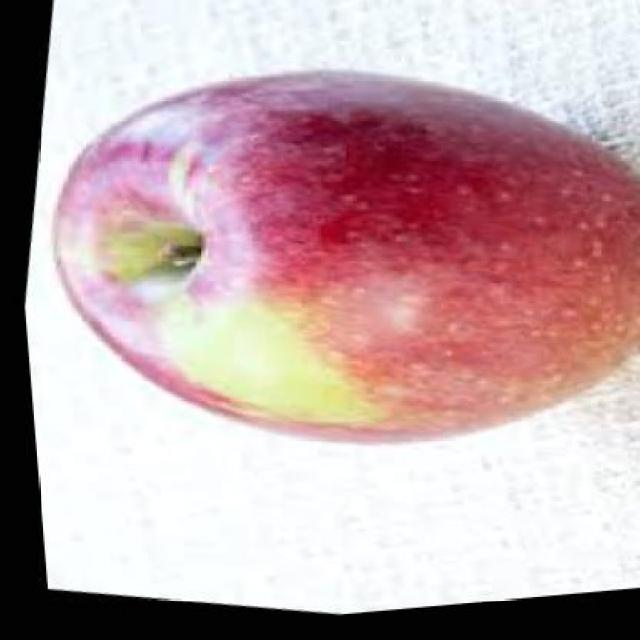Fresh Apple: (49, 72, 640, 448)
